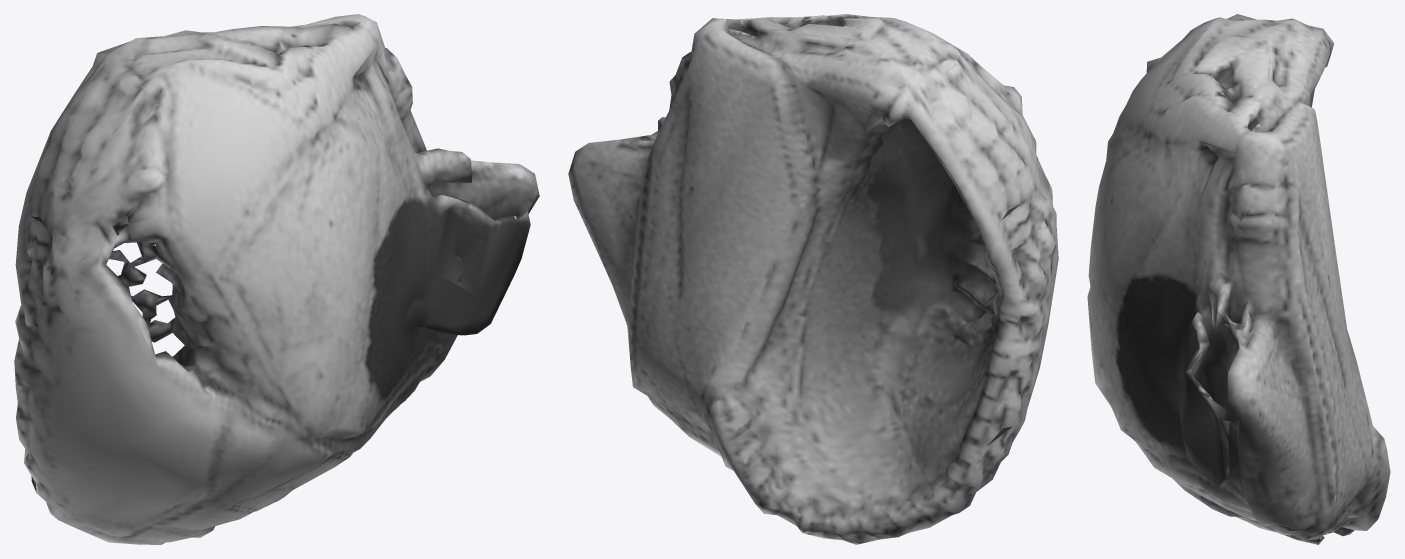
The model's file is mitaine.glb.
3 renders of one model, left to right at view 1: azimuth 30°, elevation 25°; view 2: azimuth 150°, elevation 25°; view 3: azimuth 270°, elevation 25°, orthographic. The views are drawn at different scales.
Visible parts, largest first — view 1: Mitaine; view 2: Mitaine; view 3: Mitaine.
Boxes of the visible parts, x1,y1,x2,y2 form: Mitaine: [14, 14, 539, 544]; Mitaine: [568, 14, 1058, 544]; Mitaine: [1087, 14, 1390, 544].
Size of the model in its own units: 0.3414 by 0.3316 by 0.1827.
1 material, 1 textured.
